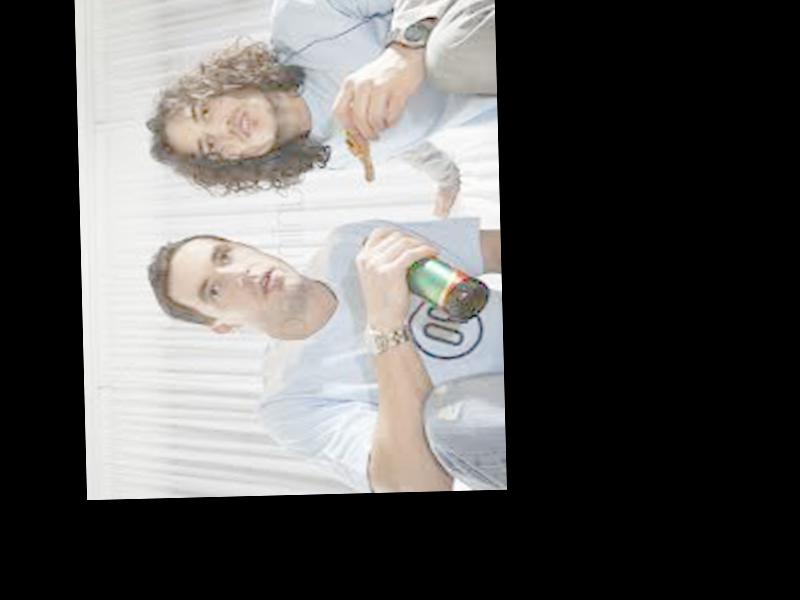Beer: (360, 233, 491, 326)
